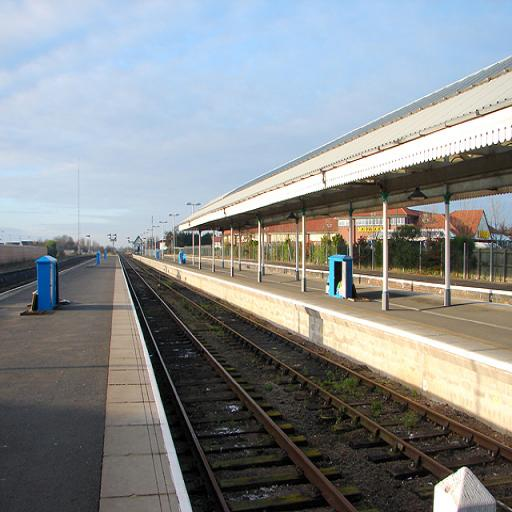platform_edge: (95, 276, 199, 512)
